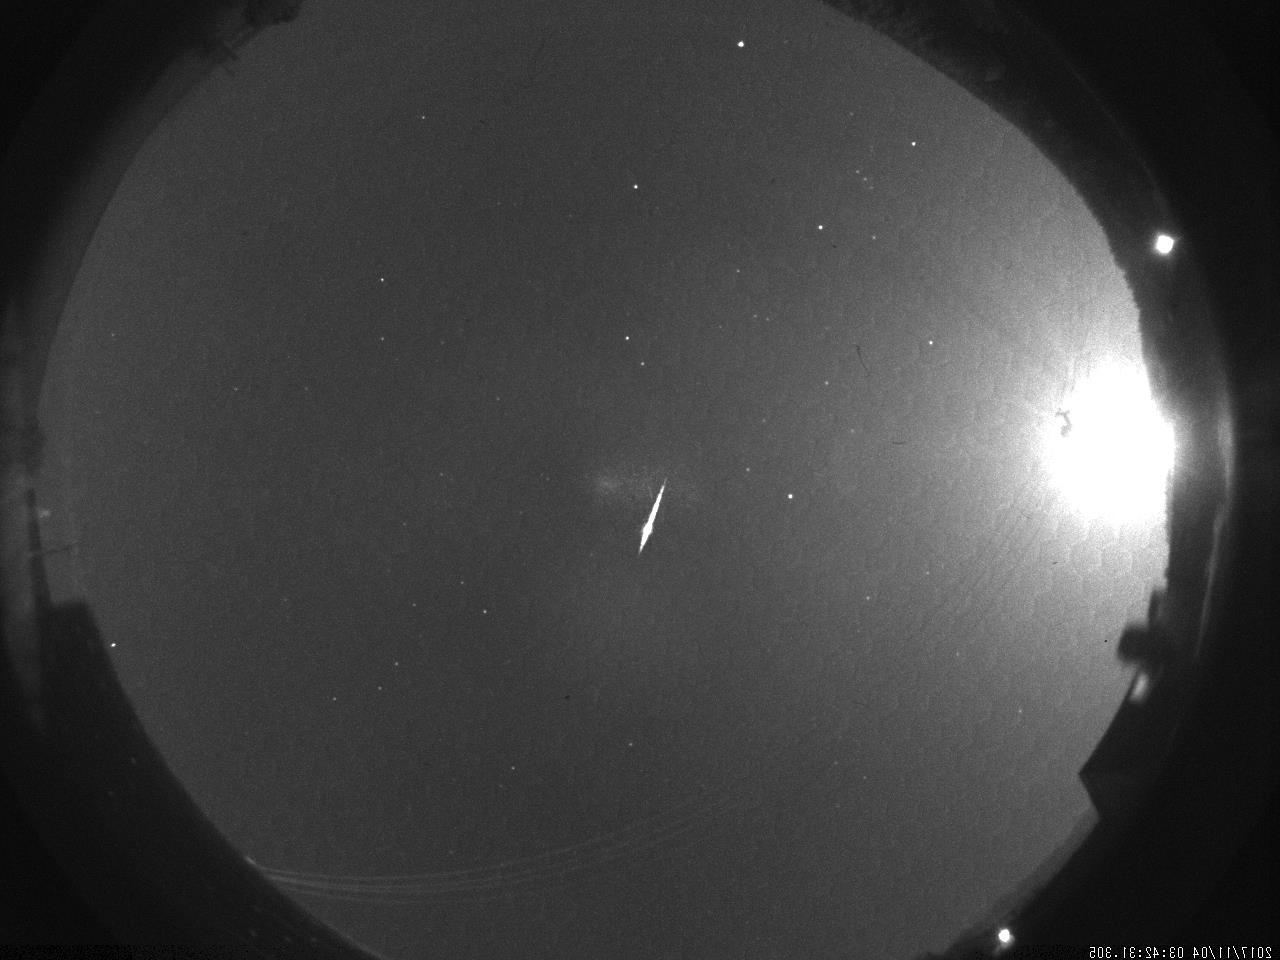meteor: (609, 458, 688, 573)
